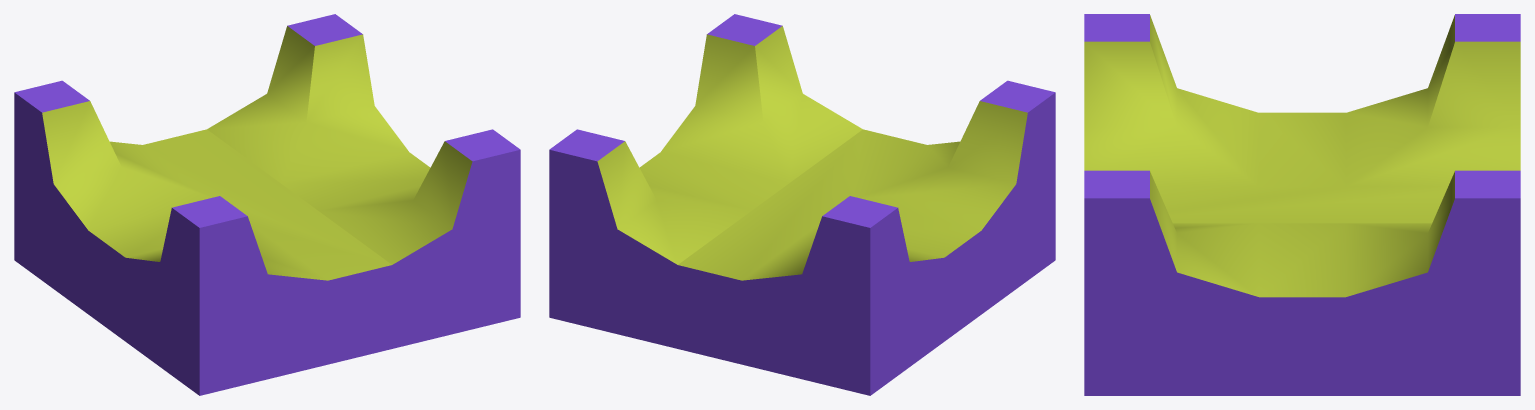
Rendered from cross-col.dae.
The picture shows the model from 3 angles, left to right: view 1: azimuth 30°, elevation 25°; view 2: azimuth 150°, elevation 25°; view 3: azimuth 270°, elevation 25°; orthographic projection. The views are drawn at different scales.
Parts seen in each view (by area): view 1: cross-col; view 2: cross-col; view 3: cross-col.
Boxes of the visible parts, x1=… form: cross-col: x1=14, y1=14, x2=520, y2=395; cross-col: x1=549, y1=14, x2=1055, y2=395; cross-col: x1=1084, y1=14, x2=1520, y2=395.
Bounding box in the file's own units: 1 × 1 × 0.5.
